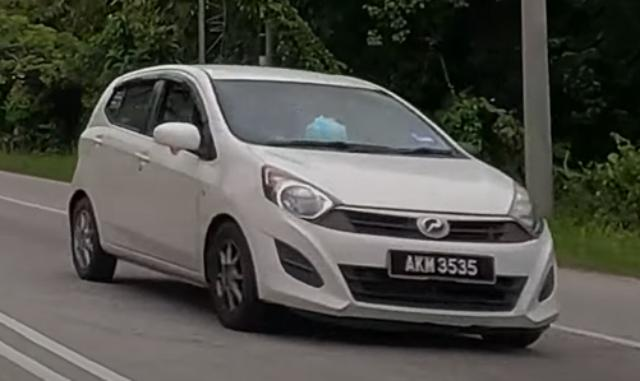License_Plate: (386, 249, 497, 287)
car: (67, 63, 562, 350)
